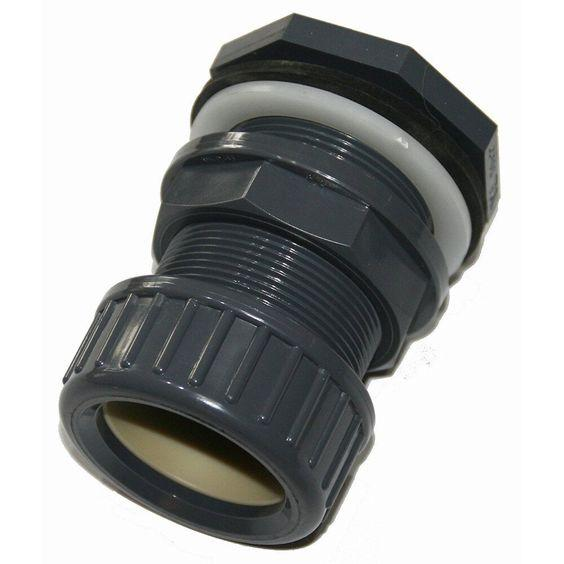PVC: (35, 0, 532, 564)
